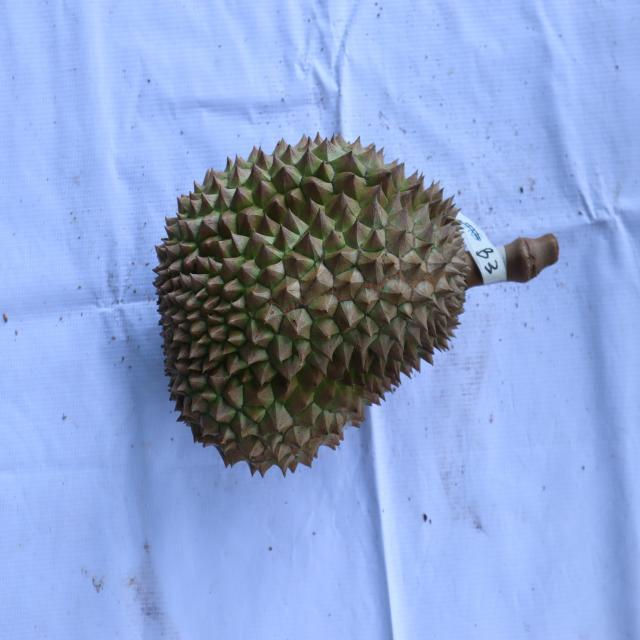mature: (153, 129, 471, 483)
